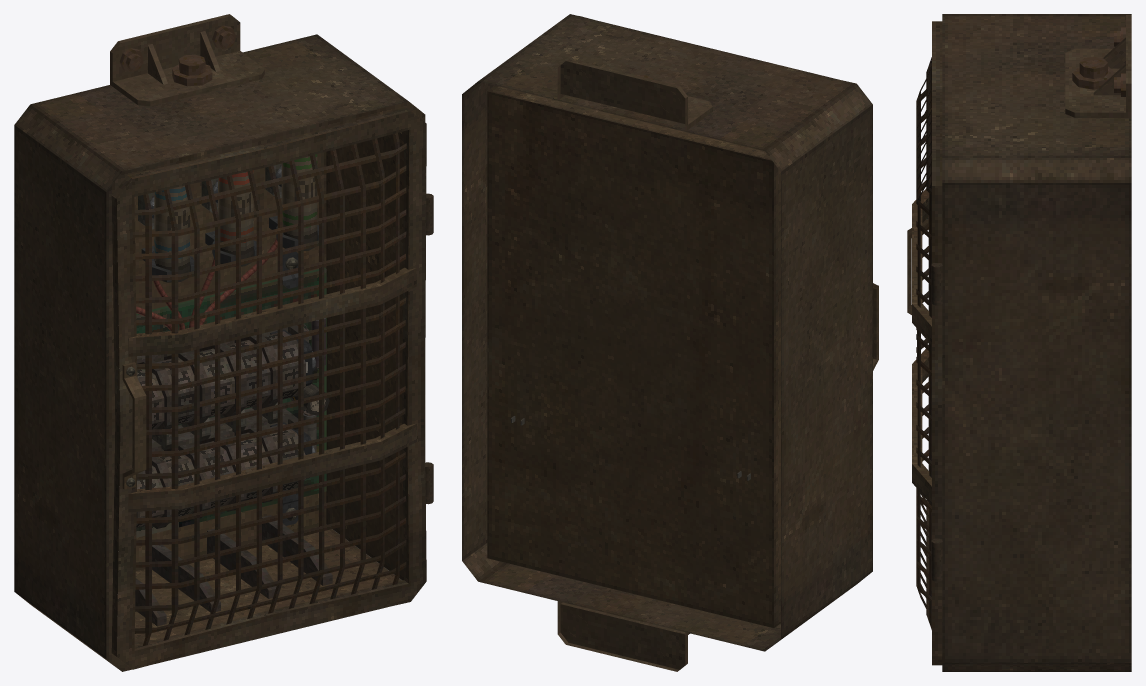
File: fuse_box_etx_1_1.glb
3 renders of one model, left to right at view 1: azimuth 30°, elevation 25°; view 2: azimuth 150°, elevation 25°; view 3: azimuth 270°, elevation 25°, orthographic. The views are drawn at different scales.
Parts seen in each view (by area): view 1: fuse_box_etx_1_1, fuse_box_etx_1_1_door, fuse_etx_green_1, fuse_etx_blue_1, fuse_etx_red_1; view 2: fuse_box_etx_1_1; view 3: fuse_box_etx_1_1, fuse_box_etx_1_1_door.
Part boxes in pixels (bbox=[...]): fuse_box_etx_1_1: bbox=[14, 14, 425, 671]; fuse_box_etx_1_1_door: bbox=[111, 107, 433, 669]; fuse_etx_green_1: bbox=[281, 154, 317, 250]; fuse_etx_blue_1: bbox=[154, 185, 189, 282]; fuse_etx_red_1: bbox=[218, 170, 253, 266]; fuse_box_etx_1_1: bbox=[462, 14, 872, 671]; fuse_box_etx_1_1: bbox=[942, 14, 1131, 671]; fuse_box_etx_1_1_door: bbox=[907, 21, 942, 665].
Bounding box in the file's own units: 0.548 × 0.945 × 0.32.
Materials: 2 (2 with a texture image).
